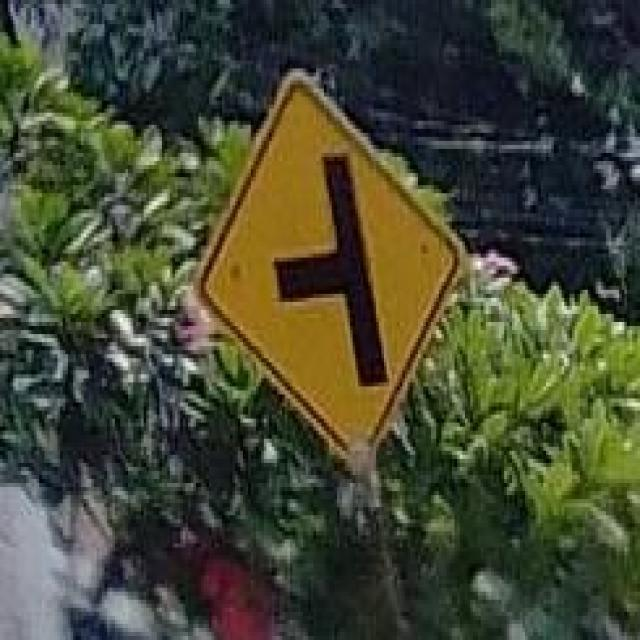traffic sign: (220, 96, 458, 462)
